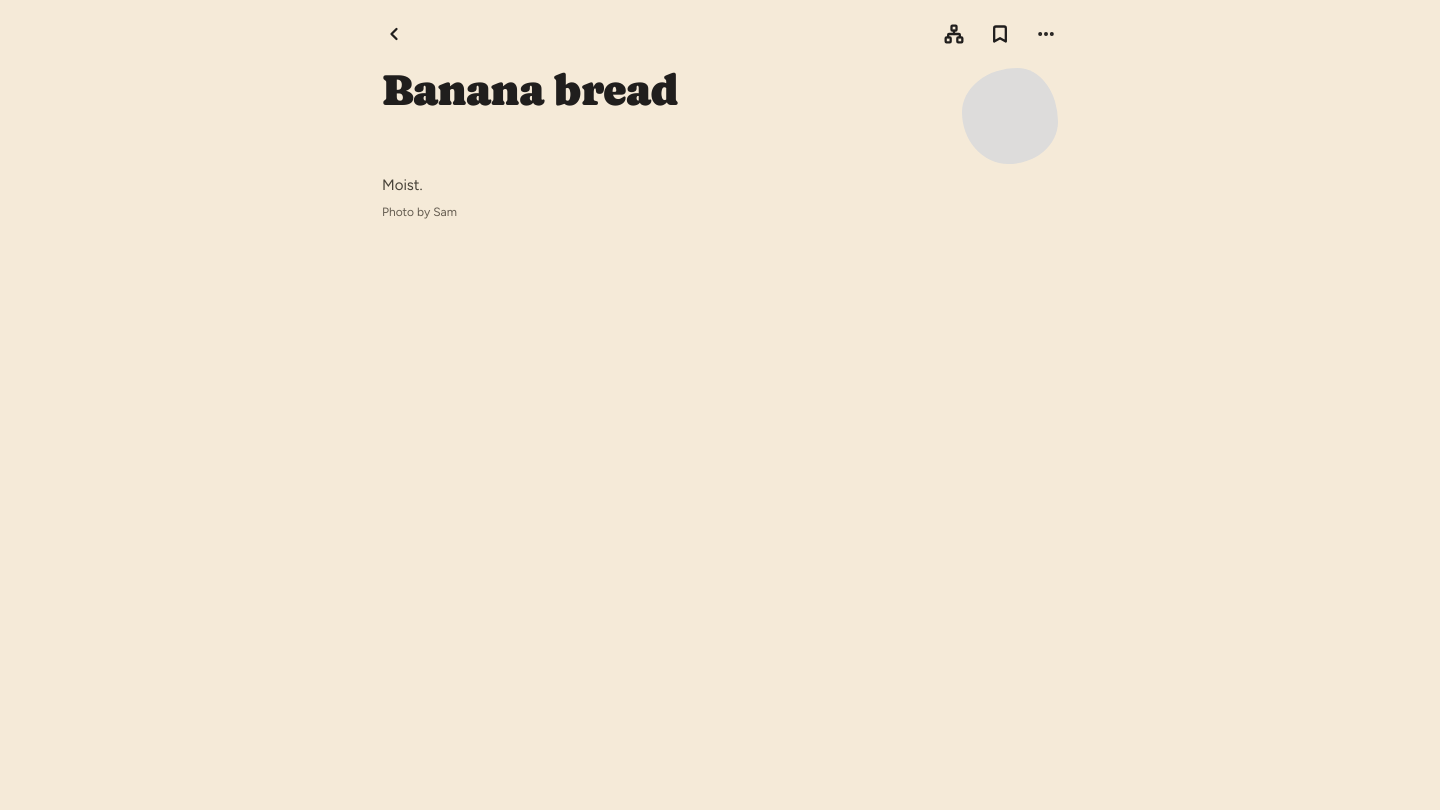
Test: RecipeHeader cook photo (RL-206) › shows a failure and keeps the dialog when removal fails
The width and height of the screenshot is (1440, 810).
Click the button named "More options" at [1046, 34], box [1024,12,1068,56]
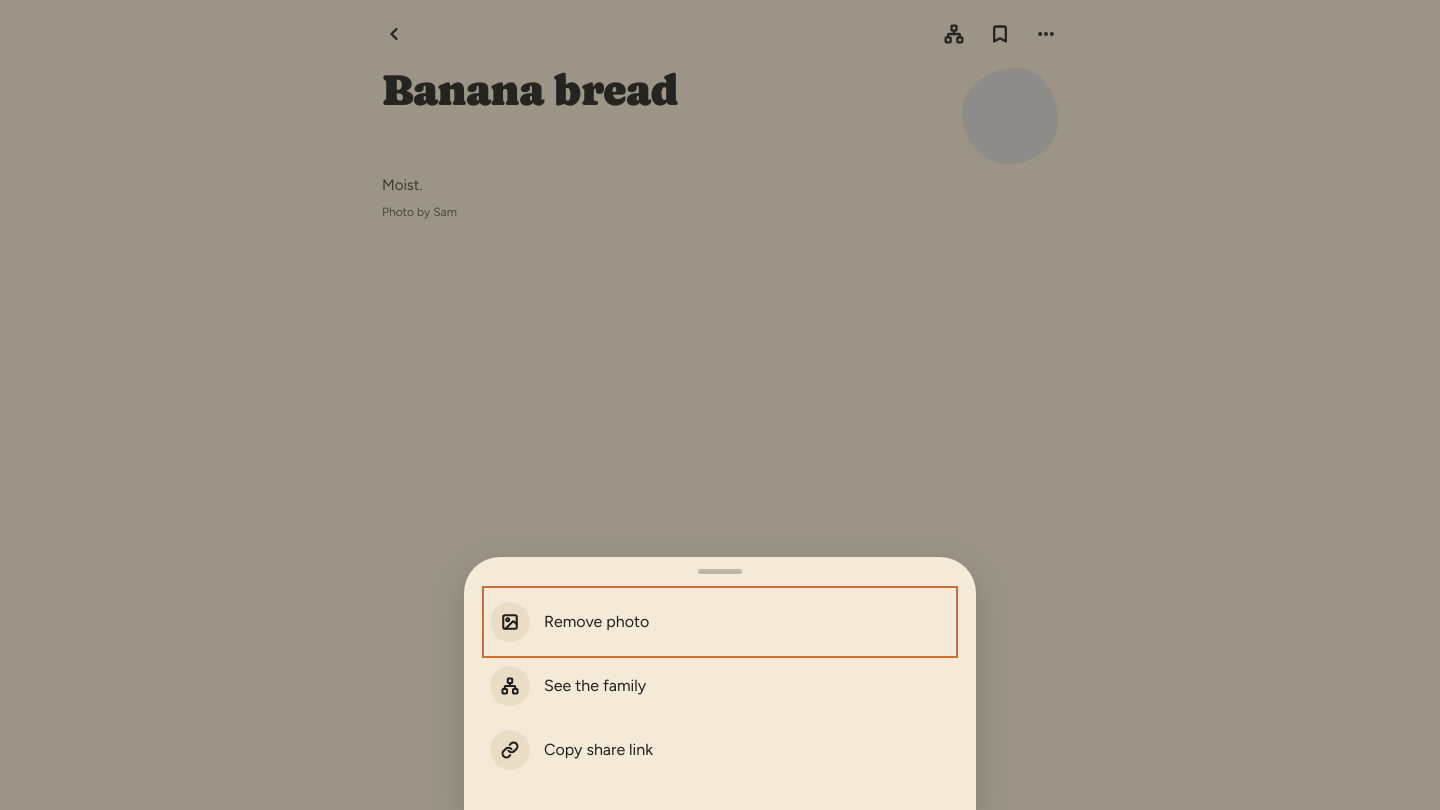
Click the button "Remove photo" at [510, 622], box [486,590,954,654]
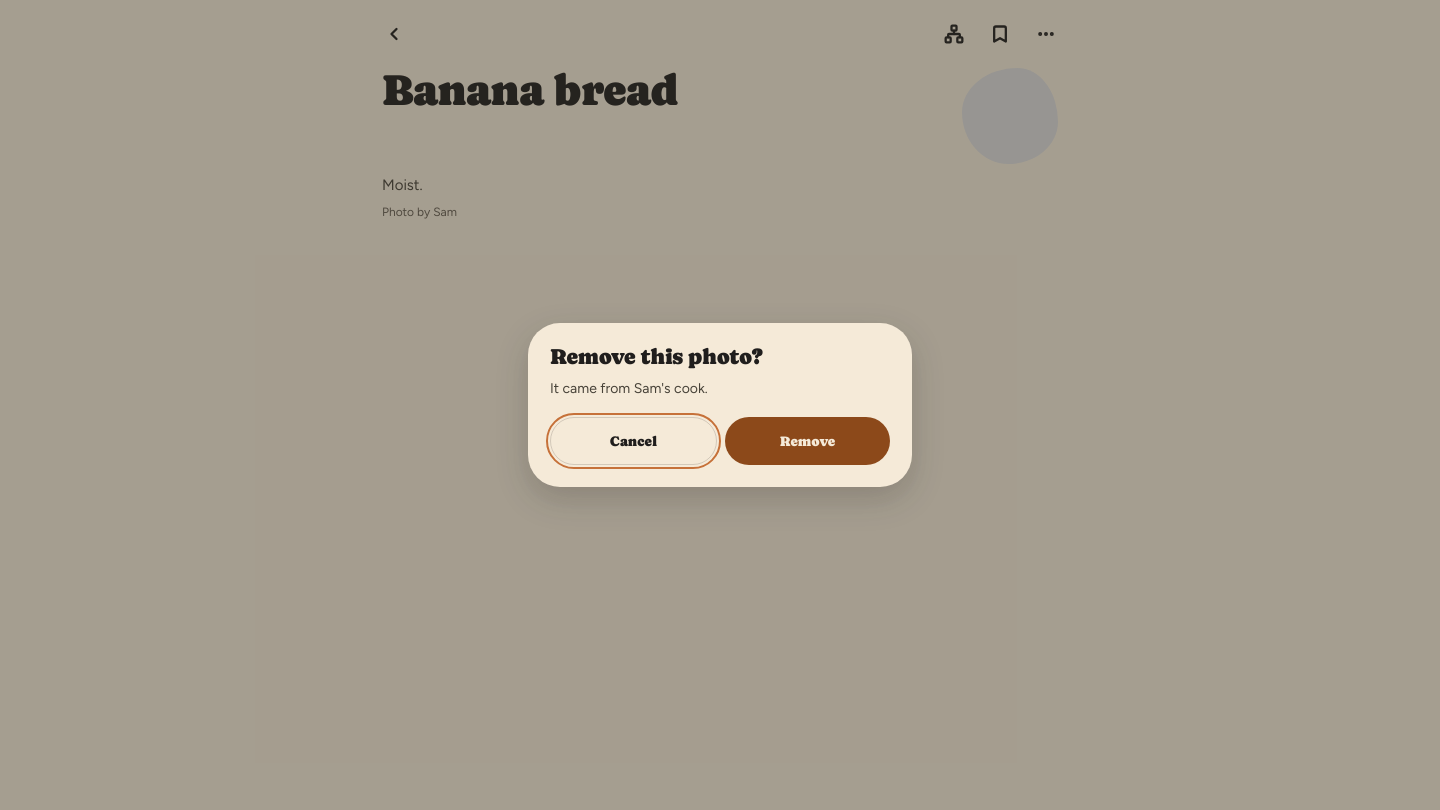
Click the button "Remove" at [808, 441], box [725,417,890,465]
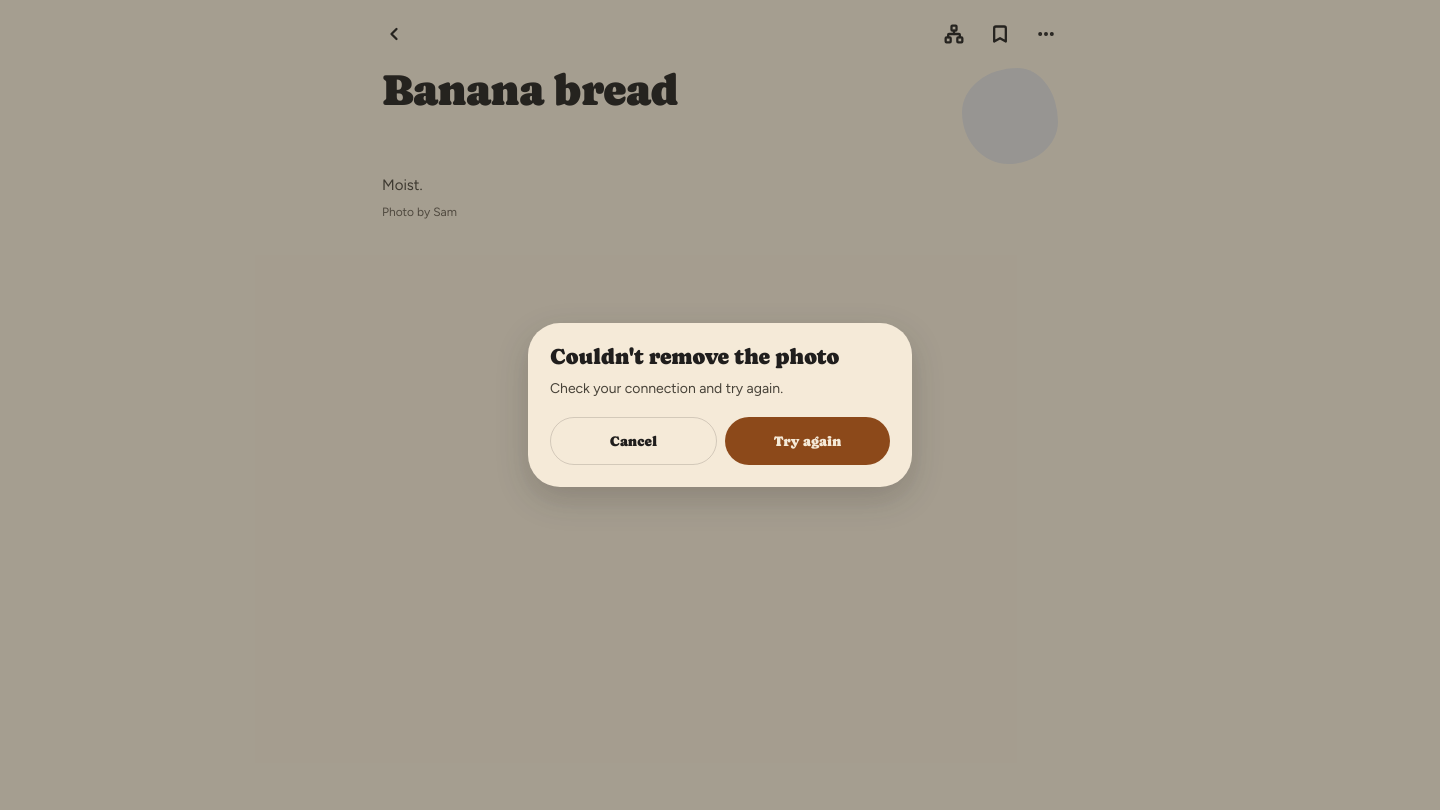
Expected: the heading "Couldn't remove the photo" is shown, [550,345,890,369]
Expected: the button "Try again" is shown, [725,417,890,465]
